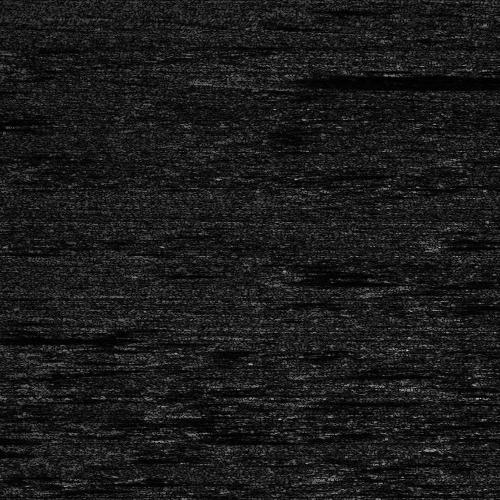rock: (191, 76, 296, 85), (277, 396, 350, 403), (28, 368, 101, 373), (152, 436, 215, 441), (293, 371, 346, 376), (407, 302, 448, 307), (266, 277, 297, 282)
shadow: (244, 76, 465, 85), (0, 332, 116, 343), (314, 396, 430, 403), (184, 436, 319, 441), (320, 371, 436, 376), (282, 277, 393, 282), (65, 368, 138, 373), (428, 302, 500, 307)
